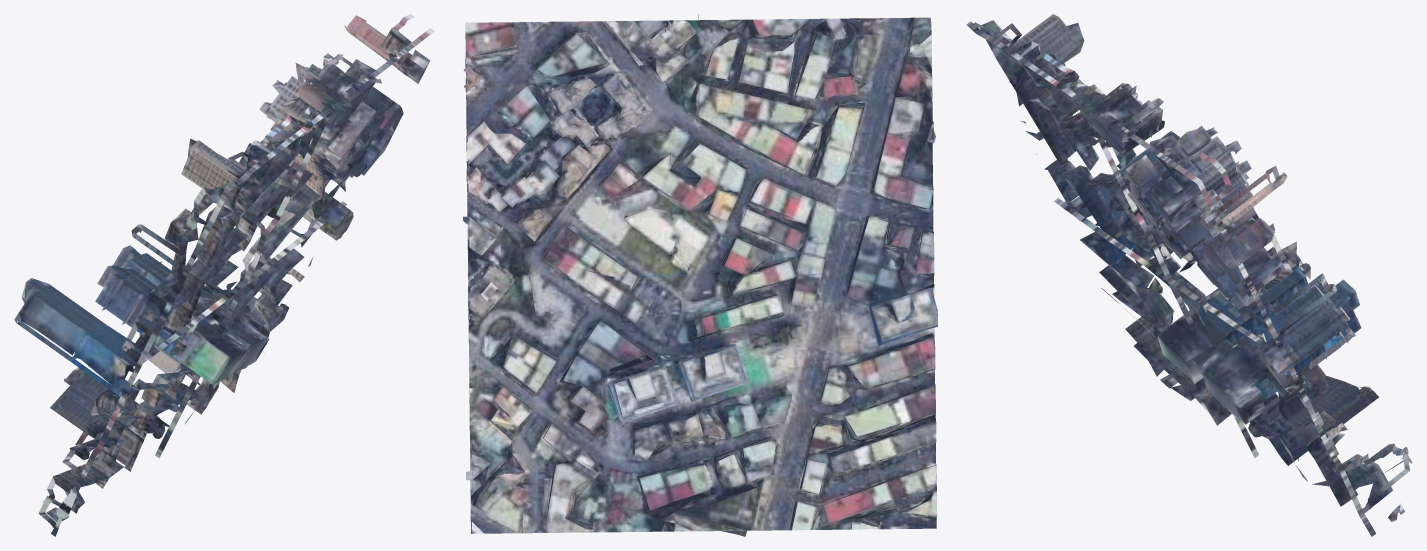
3 views of the same model, side by side, from view 1: azimuth 30°, elevation 25°; view 2: azimuth 150°, elevation 25°; view 3: azimuth 270°, elevation 25° (orthographic). The views are drawn at different scales.
Size of the model in its own units: 320 by 291 by 280.
Materials: 2 (2 with a texture image).
